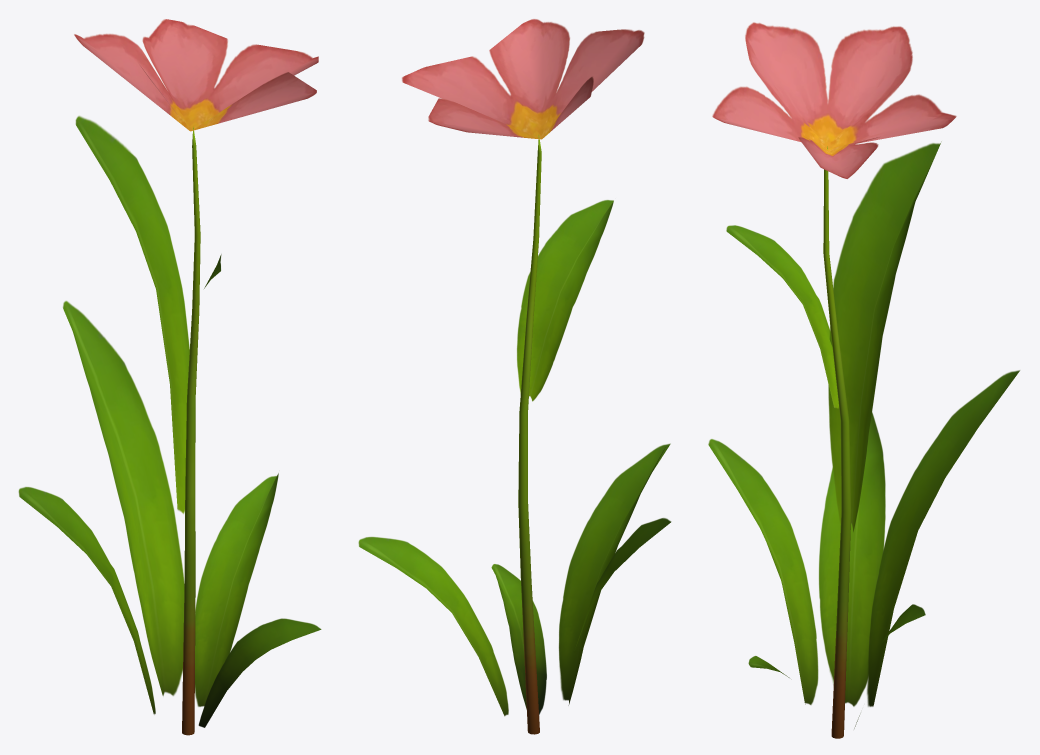
The model's file is flower-single-1.glb.
3 views of the same model, side by side, from view 1: azimuth 30°, elevation 25°; view 2: azimuth 150°, elevation 25°; view 3: azimuth 270°, elevation 25° (orthographic). The views are drawn at different scales.
Parts seen in each view (by area): view 1: Flower_3_Single; view 2: Flower_3_Single; view 3: Flower_3_Single.
Boxes of the visible parts, x1,y1,x2,y2 form: Flower_3_Single: [18, 19, 321, 735]; Flower_3_Single: [358, 19, 671, 734]; Flower_3_Single: [708, 22, 1019, 738].
Bounding box in the file's own units: 0.9066 × 2.07 × 0.8775.
2 materials, 2 textured.
